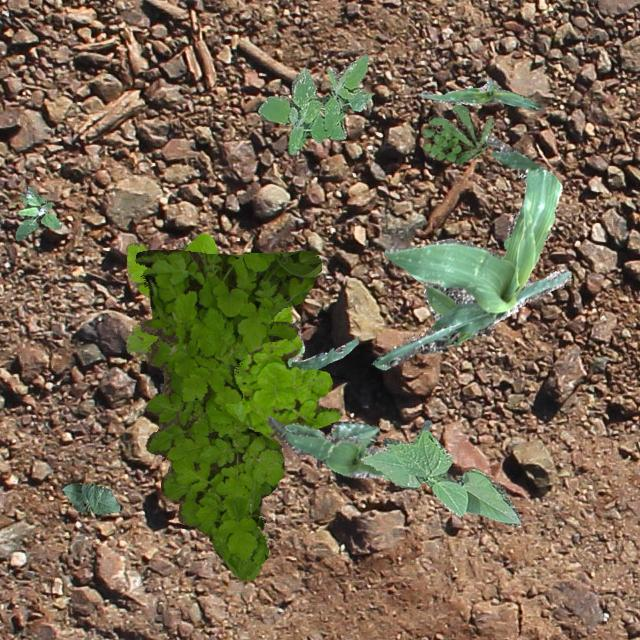crop: (372, 132, 570, 368), (360, 428, 520, 524), (266, 414, 432, 476), (418, 76, 540, 110), (286, 332, 358, 369), (282, 421, 378, 446), (59, 482, 122, 514)
weed: (134, 248, 320, 580), (125, 232, 342, 438), (258, 53, 370, 154), (422, 104, 494, 164), (15, 186, 60, 240)
